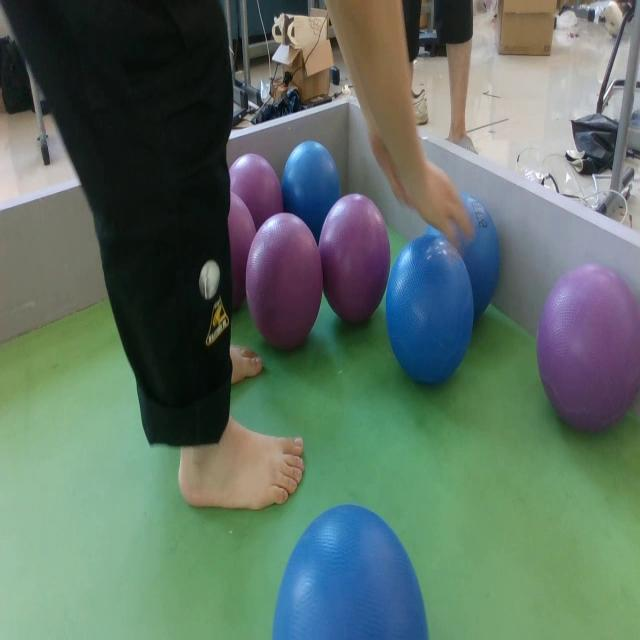blue: (270, 504, 428, 640), (384, 232, 474, 388), (424, 195, 502, 316), (281, 138, 338, 235)
invalid: (537, 262, 640, 438), (247, 212, 322, 349), (320, 189, 388, 315), (228, 153, 284, 230), (225, 190, 257, 314)
